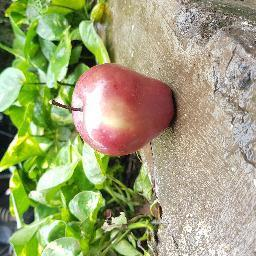Good_apple: (70, 62, 177, 159)
